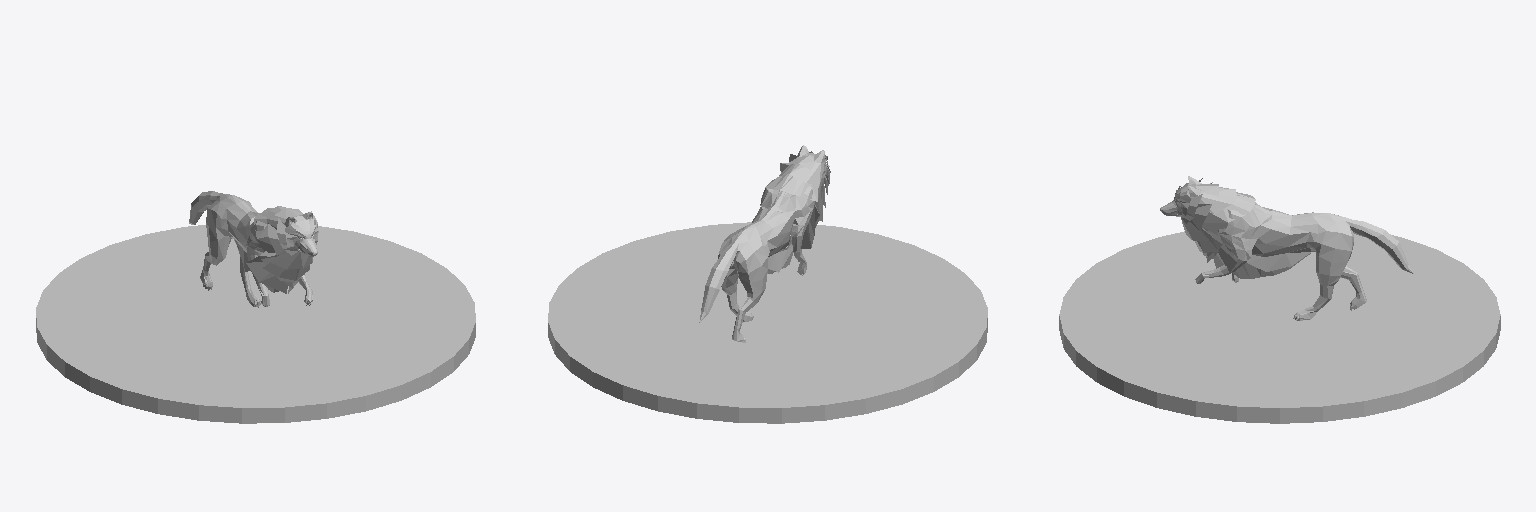
File: Wolf_0012.obj
3 renders of one model, left to right at view 1: azimuth 30°, elevation 25°; view 2: azimuth 150°, elevation 25°; view 3: azimuth 270°, elevation 25°, orthographic.
Visible parts, largest first — view 1: Circle, Wolf1_Material__wolf_col_tga_0, Wolf2_fur__fella3_jpg_001_0; view 2: Circle, Wolf1_Material__wolf_col_tga_0, Wolf2_fur__fella3_jpg_001_0; view 3: Circle, Wolf1_Material__wolf_col_tga_0, Wolf2_fur__fella3_jpg_001_0.
Boxes of the visible parts, x1,y1,x2,y2 form: Circle: [36, 225, 475, 423]; Wolf1_Material__wolf_col_tga_0: [189, 191, 317, 306]; Wolf2_fur__fella3_jpg_001_0: [237, 206, 318, 293]; Circle: [548, 222, 987, 423]; Wolf1_Material__wolf_col_tga_0: [699, 145, 829, 342]; Wolf2_fur__fella3_jpg_001_0: [765, 151, 830, 273]; Circle: [1059, 231, 1500, 423]; Wolf1_Material__wolf_col_tga_0: [1160, 176, 1413, 320]; Wolf2_fur__fella3_jpg_001_0: [1175, 178, 1310, 278].
Bounding box in the file's own units: 1.69 × 0.6305 × 1.69.